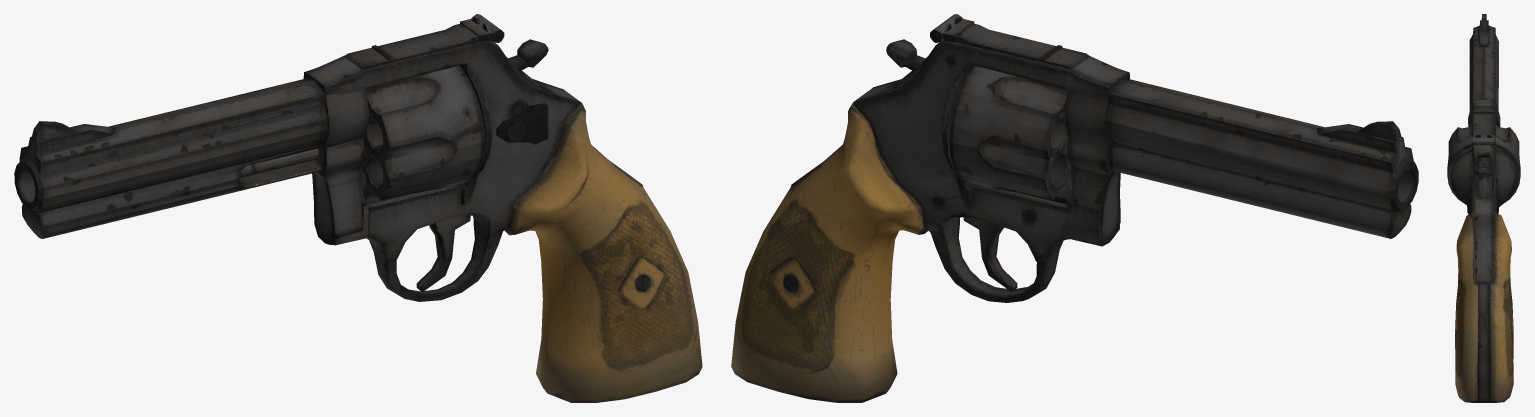
The picture shows the model from 3 angles, left to right: view 1: azimuth 30°, elevation 25°; view 2: azimuth 150°, elevation 25°; view 3: azimuth 270°, elevation 25°; orthographic projection. The views are drawn at different scales.
Visible parts, largest first — view 1: 3DSMeshMatrix (×7); view 2: 3DSMeshMatrix (×6); view 3: 3DSMeshMatrix (×5).
Part boxes in pixels (x1,y1,x2,y2): 3DSMeshMatrix (×7): (14, 14, 702, 402); 3DSMeshMatrix (×6): (731, 14, 1418, 402); 3DSMeshMatrix (×5): (1447, 14, 1520, 402).
Bounding box in the file's own units: 11.83 × 6.75 × 2.07.
1 material, 1 textured.
